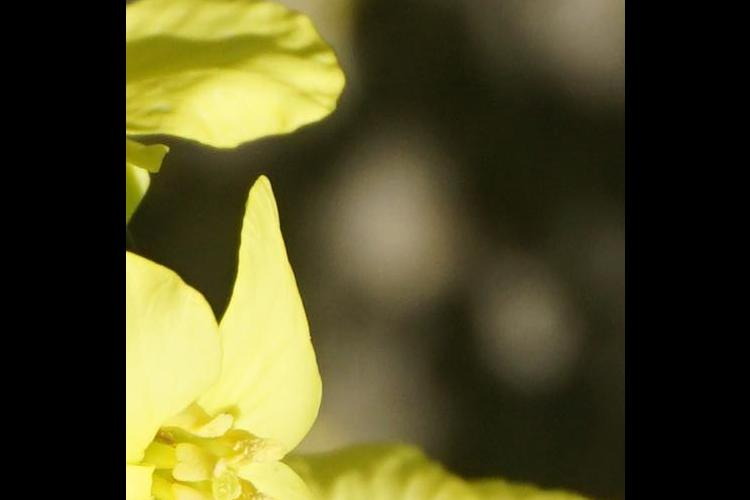yellow: (130, 228, 327, 500), (132, 1, 345, 169), (300, 451, 613, 500)
